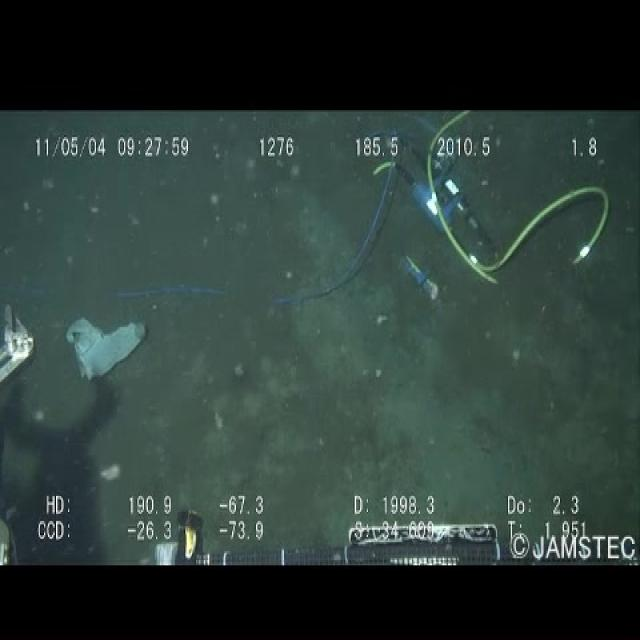plastic: (62, 310, 150, 382)
